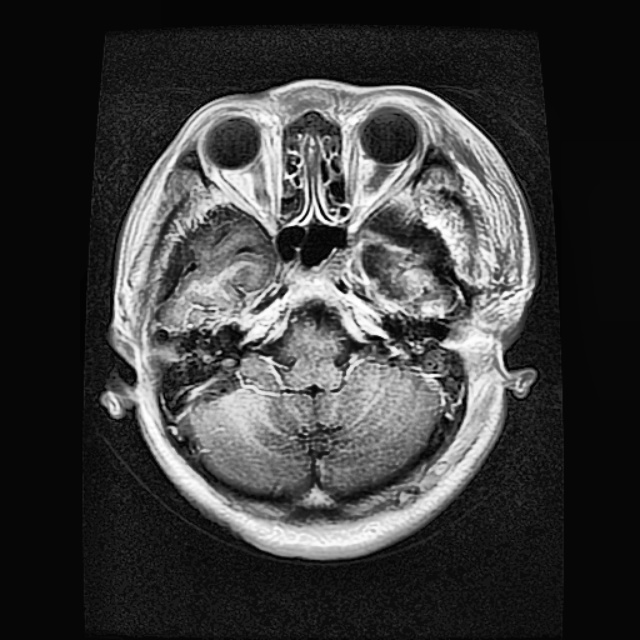Pituitary: (360, 210, 458, 312)
